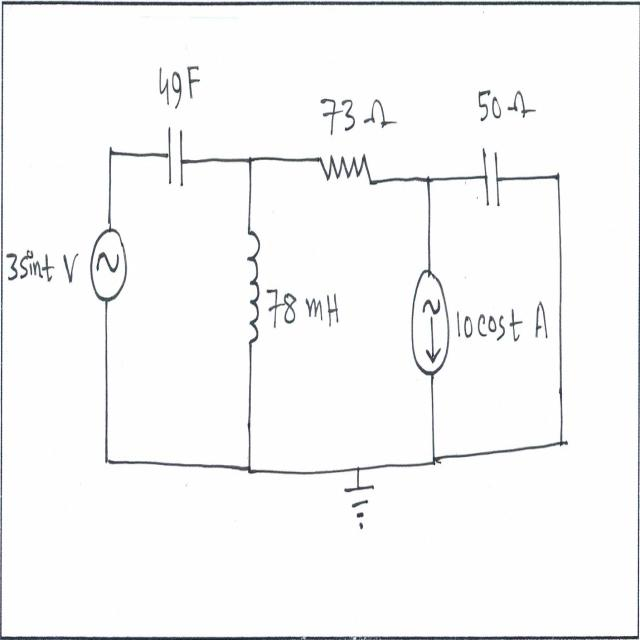ac_current: (88, 220, 129, 318)
capacitor: (481, 136, 502, 217), (165, 120, 187, 197)
current_source: (410, 269, 451, 379)
ground: (339, 479, 381, 533)
inductor: (240, 218, 263, 359)
resistor: (315, 141, 375, 199)
